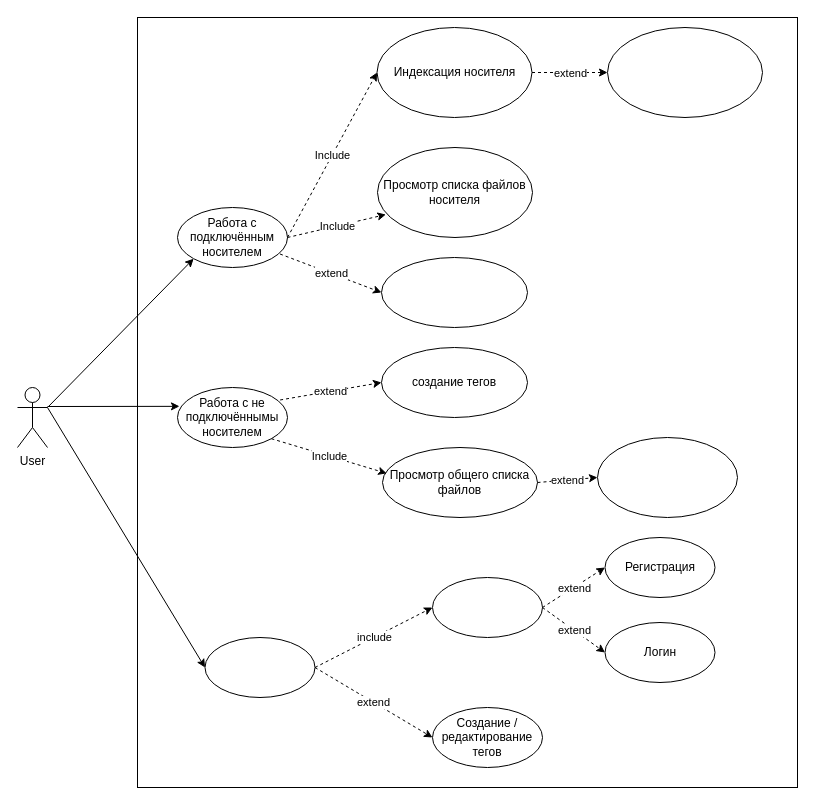
This 815x805 diagram has some shape labels left out. The centre of each missing label's shape, as x and y in pixels:
Авторизация: point 487,607
Выгрузка ярлыков: point 454,292
Работа с облаком: point 259,667
Синхронизация с облаком: point 684,72
Фильтры по тегам, размерам и прочим параметрам: point 667,477
